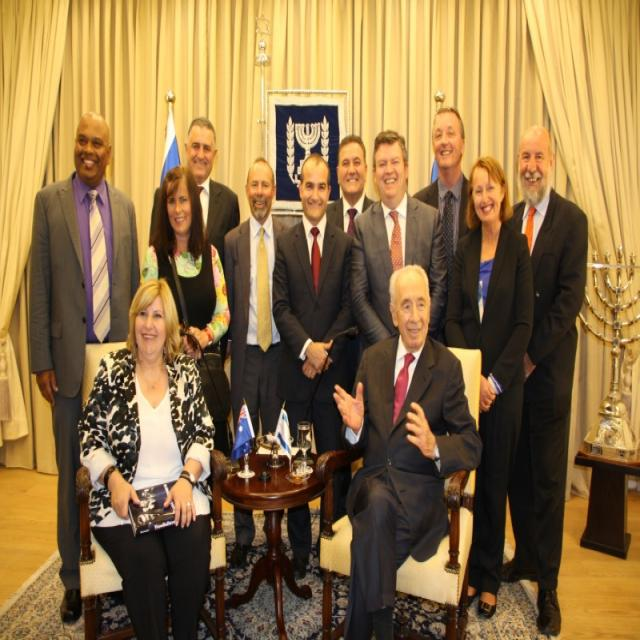body: (25, 107, 145, 625), (333, 263, 484, 640), (75, 274, 220, 639), (498, 124, 590, 636), (446, 156, 536, 618), (269, 151, 359, 578), (221, 156, 295, 572), (138, 163, 234, 459), (148, 115, 242, 371), (347, 129, 450, 348), (409, 103, 479, 347), (324, 132, 378, 237)
